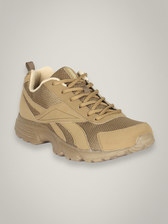shoes: (12, 59, 161, 160)
